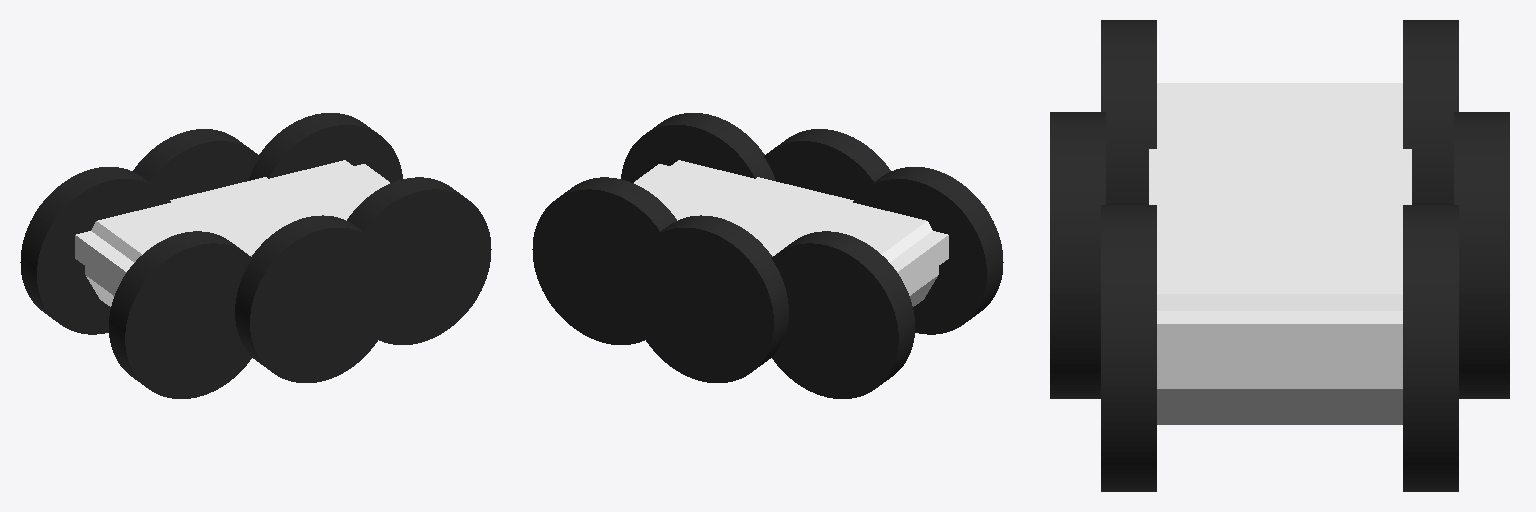
URDF robot description (espeleo):
<?xml version="1.0" ?>

<robot name="espeleo" xmlns:xacro="http://www.ros.org/wiki/xacro">


  <material name="black">
    <color rgba="0.0 0.0 0.0 1.0"/>
  </material>
  <material name="blue">
    <color rgba="0.0 0.0 0.8 1.0"/>
  </material>
  <material name="green">
    <color rgba="0.0 0.8 0.0 1.0"/>
  </material>
  <material name="grey">
    <color rgba="0.2 0.2 0.2 1.0"/>
  </material>
  <material name="orange">
    <color rgba="1.0 0.423529411765 0.0392156862745 1.0"/>
  </material>
  <material name="brown">
    <color rgba="0.870588235294 0.811764705882 0.764705882353 1.0"/>
  </material>
  <material name="red">
    <color rgba="0.8 0.0 0.0 1.0"/>
  </material>
  <material name="white">
    <color rgba="1.0 1.0 1.0 1.0"/>
  </material>

  <link name="world">
    <inertial>
      <mass value="0"/>
      <inertia ixx="0.2125" ixy="-0.005" ixz="0.0225" iyy="0.205" iyz="0.045" izz="0.0125"/>
      <origin rpy="0 0 0" xyz="0 0 0"/>
    </inertial>
  </link>


<!-- <link name="z_prismatic">
   <inertial>
      <mass value="1.0"/>
      <inertia ixx="0.2125" ixy="-0.005" ixz="0.0225" iyy="0.205" iyz="0.045" izz="0.0125"/>
      <origin rpy="0 0 0" xyz="0 0 0"/>
    </inertial>
  </link> -->

    <!-- <joint name="z_to_world" type="prismatic">
    <parent link="world"/>
    <child link="z_prismatic"/>
    <axis xyz="0 0 1"/>
    <limit effort="0.0" lower="1" upper="-1" velocity="1000.0"/>
    <origin rpy="0 0 0" xyz="0 0 0"/>
  </joint>

  <joint name="base_link_to_z" type="continuous">
    <parent link="z_prismatic"/>
    <child link="base_link"/>
    <axis xyz="1 0 0"/>
    <origin rpy="0 0 0" xyz="0 0 1.4"/>
  </joint>  -->

<!--    <link name="x_prismatic">
   <inertial>
      <mass value="0.01"/>
      <inertia ixx="0.2125" ixy="-0.005" ixz="0.0225" iyy="0.205" iyz="0.045" izz="0.0125"/>
      <origin rpy="0 0 0" xyz="0 0 0"/>
    </inertial>
  </link>

  <joint name="x_to_world" type="prismatic">
    <parent link="world"/>
    <child link="x_prismatic"/>
    <axis xyz="1 0 0"/>
    <limit effort="0.0" lower="1" upper="-1" velocity="1000.0"/>
    <origin rpy="0 0 0" xyz="0 0 0"/>
  </joint>
 -->
  <link name="z_prismatic">
   <inertial>
      <mass value="1.0"/>
      <inertia ixx="0.2125" ixy="-0.005" ixz="0.0225" iyy="0.205" iyz="0.045" izz="0.0125"/>
      <origin rpy="0 0 0" xyz="0 0 0"/>
    </inertial>
  </link>

  <joint name="z_to_world" type="prismatic">
    <parent link="world"/>
    <child link="z_prismatic"/>
    <axis xyz="0 0 1"/>
    <limit effort="0.0" lower="1" upper="-1" velocity="1000.0"/>
    <origin rpy="0 0 0" xyz="0 0 0"/>
  </joint>

<!--   <joint name="z_to_x" type="prismatic">
    <parent link="x_prismatic"/>
    <child link="z_prismatic"/>
    <axis xyz="0 0 1"/>
     <limit effort="0.0" lower="1" upper="-1" velocity="1000.0"/>
    <origin rpy="0 0 0" xyz="0 0 0"/>
  </joint> -->

  <joint name="base_link_to_z" type="continuous">
    <parent link="z_prismatic"/>
    <child link="base_link"/>
    <axis xyz="1 0 0"/>
    <origin rpy="0 0 0" xyz="0 0 1.4"/>
  </joint>


<!--   <link name="y_prismatic">
   <inertial>
      <mass value="0.01"/>
      <inertia ixx="0.2125" ixy="-0.005" ixz="0.0225" iyy="0.205" iyz="0.045" izz="0.0125"/>
      <origin rpy="0 0 0" xyz="0 0 0"/>
    </inertial>
  </link> -->

<!--

  
  <joint name="y_to_x" type="prismatic">
    <parent link="x_prismatic"/>
    <child link="y_prismatic"/>
    <axis xyz="0 1 0"/>
     <limit effort="0.0" lower="1" upper="-1" velocity="1000.0"/>
    <origin rpy="0 0 0" xyz="0 0 0"/>
  </joint>


  <joint name="base_link_to_y" type="continuous">
    <parent link="y_prismatic"/>
    <child link="base_link"/>
    <axis xyz="1 0 0"/>
    <origin rpy="0 0 0" xyz="0 0 1.4"/>
  </joint> -->

 
  <link name="base_link"/>

  <joint name="base_joint" type="fixed">
    <axis xyz="0 0 0"/>
    <origin rpy="0 0 0.0" xyz="0 0 .15 "/>
    <parent link="base_link"/>
    <child link="chassis"/>
  </joint>




  <link name="chassis">


    <collision>
      <origin rpy="0 0 0" xyz="0 0 0"/>
      <geometry>
        <box size="0.54 0.27 0.145"/>
      </geometry>
    </collision>

    <visual>
      <origin rpy="-1.57079632679 0 0" xyz="-0.283 -0.23 0.0725"/>
      <geometry>
        <mesh filename="package://espeleo_planner/espeleo_planner/urdf/stl/corpo.stl" scale="0.001 0.001 0.001"/>
      </geometry>
      <material name="white"/>
    </visual>

    <inertial>
      <origin rpy="0 0 0" xyz="0 0 0.15"/>
      <mass value="0.5"/>
      <inertia ixx="0.01215" ixy="0" ixz="0" iyy="0.0030375" iyz="0" izz="0.0151875"/>
    </inertial>
  </link>


  <link name="left_front_wheel">

    <collision>
      <origin rpy="1.57079632679 0 0" xyz="0 0 0"/>
      <geometry>
        <cylinder length="0.043" radius="0.14"/>
      </geometry>
    </collision>

    <visual>
      <origin rpy="0 0 0" xyz="0 0 0"/>
      <geometry>
        <mesh filename="package://espeleo_planner/espeleo_planner/urdf/stl/roda_esquerda_v2.stl" scale="0.001 0.001 0.001"/>
      </geometry>
      <material name="grey"/>
    </visual>

    <inertial>
      <origin rpy="1.57079632679 0 0 " xyz="0 0 0"/>
      <mass value="0.2"/>
      <inertia ixx="0.00101081666667" ixy="0" ixz="0" iyy="0.00101081666667" iyz="0" izz="0.00196"/>
    </inertial>

  </link>
  

  <joint name="left_front_wheel_joint" type="revolute">
    <parent link="chassis"/>
    <child link="left_front_wheel"/>
    <origin rpy="0 0 0" xyz="0.215 0.175 -0.01"/>
    <axis rpy="0 0 0" xyz="0 1 0"/>
    <limit command_effort="100" current="10" effort="80" gear_velocity="10" lower="-9.42" upper="9.42" velocity="15"/>   
    <joint_properties damping="0.0" friction="0.0"/>
  </joint>

  <transmission name="left_front_trans">
    <type>transmission_interface/SimpleTransmission</type>
    <joint name="left_front_wheel_joint">
      <hardwareInterface>EffortJointInterface</hardwareInterface>
    </joint>
    <actuator name="left_frontMotor">
      <hardwareInterface>EffortJointInterface</hardwareInterface>
      <mechanicalReduction>10</mechanicalReduction>
    </actuator>
  </transmission>



  <link name="left_middle_wheel">

    <collision>
      <origin rpy="1.57079632679 0 0" xyz="0 0 0"/>
      <geometry>
        <cylinder length="0.043" radius="0.14"/>
      </geometry>
    </collision>

    <visual>
      <origin rpy="0 0 0" xyz="0 0 0"/>
      <geometry>
        <mesh filename="package://espeleo_planner/espeleo_planner/urdf/stl/roda_esquerda_v2.stl" scale="0.001 0.001 0.001"/>
      </geometry>
      <material name="grey"/>
    </visual>

    <inertial>
      <origin rpy="1.57079632679 0 0 " xyz="0 0 0"/>
      <mass value="0.2"/>
      <inertia ixx="0.00101081666667" ixy="0" ixz="0" iyy="0.00101081666667" iyz="0" izz="0.00196"/>
    </inertial>

  </link>


  <joint name="left_middle_wheel_joint" type="revolute">
    <parent link="chassis"/>
    <child link="left_middle_wheel"/>
    <origin rpy="0 0 0" xyz="0.0 0.225 -0.01"/>
    <axis rpy="0 0 0" xyz="0 1 0"/>
    <limit command_effort="100" current="10" effort="80" gear_velocity="10" lower="-9.42" upper="9.42" velocity="15"/> 
    <joint_properties damping="0.0" friction="0.0"/>
  </joint>

  <transmission name="left_middle_trans">
    <type>transmission_interface/SimpleTransmission</type>
    <joint name="left_middle_wheel_joint">
      <hardwareInterface>EffortJointInterface</hardwareInterface>
    </joint>
    <actuator name="left_middleMotor">
      <hardwareInterface>EffortJointInterface</hardwareInterface>
      <mechanicalReduction>10</mechanicalReduction>
    </actuator>
  </transmission>



  <link name="left_back_wheel">

    <collision>
      <origin rpy="1.57079632679 0 0" xyz="0 0 0"/>
      <geometry>
        <cylinder length="0.043" radius="0.14"/>
      </geometry>
    </collision>

    <visual>
      <origin rpy="0 0 0" xyz="0 0 0"/>
      <geometry>
        <mesh filename="package://espeleo_planner/espeleo_planner/urdf/stl/roda_esquerda_v2.stl" scale="0.001 0.001 0.001"/>
      </geometry>
      <material name="grey"/>
    </visual>

    <inertial>
      <origin rpy="1.57079632679 0 0 " xyz="0 0 0"/>
      <mass value="0.2"/>
      <inertia ixx="0.00101081666667" ixy="0" ixz="0" iyy="0.00101081666667" iyz="0" izz="0.00196"/>
    </inertial>
  </link>
  
  <joint name="left_back_wheel_joint" type="revolute">
    <parent link="chassis"/>
    <child link="left_back_wheel"/>
    <origin rpy="0 0 0" xyz="-0.212 0.175 -0.01"/>
    <axis rpy="0 0 0" xyz="0 1 0"/>
    <limit command_effort="100" current="10" effort="80" gear_velocity="10" lower="-9.42" upper="9.42" velocity="15"/> 
    <joint_properties damping="0.0" friction="0.0"/>
  </joint>

  <transmission name="left_back_trans">
    <type>transmission_interface/SimpleTransmission</type>
    <joint name="left_back_wheel_joint">
      <hardwareInterface>EffortJointInterface</hardwareInterface>
    </joint>
    <actuator name="left_backMotor">
      <hardwareInterface>EffortJointInterface</hardwareInterface>
      <mechanicalReduction>10</mechanicalReduction>
    </actuator>
  </transmission>


  <link name="right_front_wheel">

    <collision>
      <origin rpy="1.57079632679 0 0" xyz="0 0 0"/>
      <geometry>
        <cylinder length="0.043" radius="0.14"/>
      </geometry>
    </collision>

    <visual>
      <origin rpy="3.1415 0 3.14159265359" xyz="0 0 0"/>
      <geometry>
        <mesh filename="package://espeleo_planner/espeleo_planner/urdf/stl/roda_esquerda_v2.stl" scale="0.001 0.001 0.001"/>
      </geometry>
      <material name="grey"/>
    </visual>

    <inertial>
      <origin rpy="1.57079632679 0 0 " xyz="0 0 0"/>
      <mass value="0.2"/>
      <inertia ixx="0.00101081666667" ixy="0" ixz="0" iyy="0.00101081666667" iyz="0" izz="0.00196"/>
    </inertial>
  </link>
  
  <joint name="right_front_wheel_joint" type="revolute">
    <parent link="chassis"/>
    <child link="right_front_wheel"/>
    <origin rpy="3.1415 0 0" xyz="0.215 -0.175 -0.01"/>
    <axis rpy="0 0 0" xyz="0 1 0"/>
    <limit command_effort="100" current="10" effort="80" gear_velocity="10" lower="-9.42" upper="9.42" velocity="15"/> 
    <joint_properties damping="0.0" friction="0.0"/>
  </joint>

  <transmission name="right_front_trans">
    <type>transmission_interface/SimpleTransmission</type>
    <joint name="right_front_wheel_joint">
      <hardwareInterface>EffortJointInterface</hardwareInterface>
    </joint>
    <actuator name="right_frontMotor">
      <hardwareInterface>EffortJointInterface</hardwareInterface>
      <mechanicalReduction>10</mechanicalReduction>
    </actuator>
  </transmission>


  <link name="right_middle_wheel">

    <collision>
      <origin rpy="1.57079632679 0 0" xyz="0 0 0"/>
      <geometry>
        <cylinder length="0.043" radius="0.14"/>
      </geometry>
    </collision>

    <visual>
      <origin rpy="3.1415 0 3.14159265359" xyz="0 0 0"/>
      <geometry>
        <mesh filename="package://espeleo_planner/espeleo_planner/urdf/stl/roda_esquerda_v2.stl" scale="0.001 0.001 0.001"/>
      </geometry>
      <material name="grey"/>
    </visual>

    <inertial>
      <origin rpy="1.57079632679 0 0 " xyz="0 0 0"/>
      <mass value="0.2"/>
      <inertia ixx="0.00101081666667" ixy="0" ixz="0" iyy="0.00101081666667" iyz="0" izz="0.00196"/>
    </inertial>
  </link>
  
  <joint name="right_middle_wheel_joint" type="revolute">
    <parent link="chassis"/>
    <child link="right_middle_wheel"/>
    <origin rpy="3.1415 0 0" xyz="0.0 -0.225 -0.01"/>
    <axis rpy="0 0 0" xyz="0 1 0"/>
    <limit command_effort="100" current="10" effort="80" gear_velocity="10" lower="-9.42" upper="9.42" velocity="15"/> 
    <joint_properties damping="0.0" friction="0.0"/>
  </joint>

  <transmission name="right_middle_trans">
    <type>transmission_interface/SimpleTransmission</type>
    <joint name="right_middle_wheel_joint">
      <hardwareInterface>EffortJointInterface</hardwareInterface>
    </joint>
    <actuator name="right_middleMotor">
      <hardwareInterface>EffortJointInterface</hardwareInterface>
      <mechanicalReduction>10</mechanicalReduction>
    </actuator>
  </transmission>


  <link name="right_back_wheel">

    <collision>
      <origin rpy="1.57079632679 0 0" xyz="0 0 0"/>
      <geometry>
        <cylinder length="0.043" radius="0.14"/>
      </geometry>
    </collision>

    <visual>
      <origin rpy="3.1415 0 3.14159265359" xyz="0 0 0"/>
      <geometry>
        <mesh filename="package://espeleo_planner/espeleo_planner/urdf/stl/roda_esquerda_v2.stl" scale="0.001 0.001 0.001"/>
      </geometry>
      <material name="grey"/>
    </visual>

    <inertial>
      <origin rpy="1.57079632679 0 0 " xyz="0 0 0"/>
      <mass value="0.2"/>
      <inertia ixx="0.00101081666667" ixy="0" ixz="0" iyy="0.00101081666667" iyz="0" izz="0.00196"/>
    </inertial>
  </link>
  
  <joint name="right_back_wheel_joint" type="revolute">
    <parent link="chassis"/>
    <child link="right_back_wheel"/>
    <origin rpy="3.1415 0 0" xyz="-0.212 -0.175 -0.01"/>
    <axis rpy="0 0 0" xyz="0 1 0"/>
    <limit command_effort="100" current="10" effort="80" gear_velocity="10" lower="-9.42" upper="9.42" velocity="15"/> 
    <joint_properties damping="0.0" friction="0.0"/>
  </joint>

  <transmission name="right_back_trans">
    <type>transmission_interface/SimpleTransmission</type>
    <joint name="right_back_wheel_joint">
      <hardwareInterface>EffortJointInterface</hardwareInterface>
    </joint>
    <actuator name="right_backMotor">
      <hardwareInterface>EffortJointInterface</hardwareInterface>
      <mechanicalReduction>10</mechanicalReduction>
    </actuator>
  </transmission>

</robot>

--- What the picture shows (computed from the rendered views, not written in the file) ---
The picture shows the robot from 3 angles, left to right: view 1: azimuth 30°, elevation 25°; view 2: azimuth 150°, elevation 25°; view 3: azimuth 270°, elevation 25°; orthographic projection.
Model espeleo with 10 links and 9 joints (6 revolute, 1 continuous, 1 prismatic, 1 fixed), rooted at world, posed every joint at zero.
Visible links, largest first — view 1: right_middle_wheel, right_back_wheel, chassis, right_front_wheel, left_back_wheel, left_front_wheel, left_middle_wheel; view 2: left_middle_wheel, left_back_wheel, chassis, left_front_wheel, right_back_wheel, right_front_wheel, right_middle_wheel; view 3: chassis, left_front_wheel, right_front_wheel, left_middle_wheel, right_middle_wheel, right_back_wheel, left_back_wheel.
Link boxes in pixels (<box>): right_middle_wheel: <box>235,215,394,382</box>; right_back_wheel: <box>109,231,252,398</box>; chassis: <box>75,160,389,306</box>; right_front_wheel: <box>347,177,491,344</box>; left_back_wheel: <box>20,167,170,334</box>; left_front_wheel: <box>248,113,402,182</box>; left_middle_wheel: <box>133,129,259,199</box>; left_middle_wheel: <box>629,215,788,382</box>; left_back_wheel: <box>771,231,914,398</box>; chassis: <box>634,160,948,306</box>; left_front_wheel: <box>532,177,676,344</box>; right_back_wheel: <box>853,167,1003,334</box>; right_front_wheel: <box>621,113,775,182</box>; right_middle_wheel: <box>764,129,890,199</box>; chassis: <box>1149,83,1411,424</box>; left_front_wheel: <box>1403,205,1458,491</box>; right_front_wheel: <box>1101,205,1156,491</box>; left_middle_wheel: <box>1454,112,1509,398</box>; right_middle_wheel: <box>1050,112,1105,398</box>; right_back_wheel: <box>1101,20,1156,204</box>; left_back_wheel: <box>1403,20,1458,204</box>.
Bounding box of the posed robot: 0.707 × 0.45 × 0.2799 m (x, y, z).
Meshes: 2 distinct files referenced, 7 mesh visuals loaded (2 binary STL).